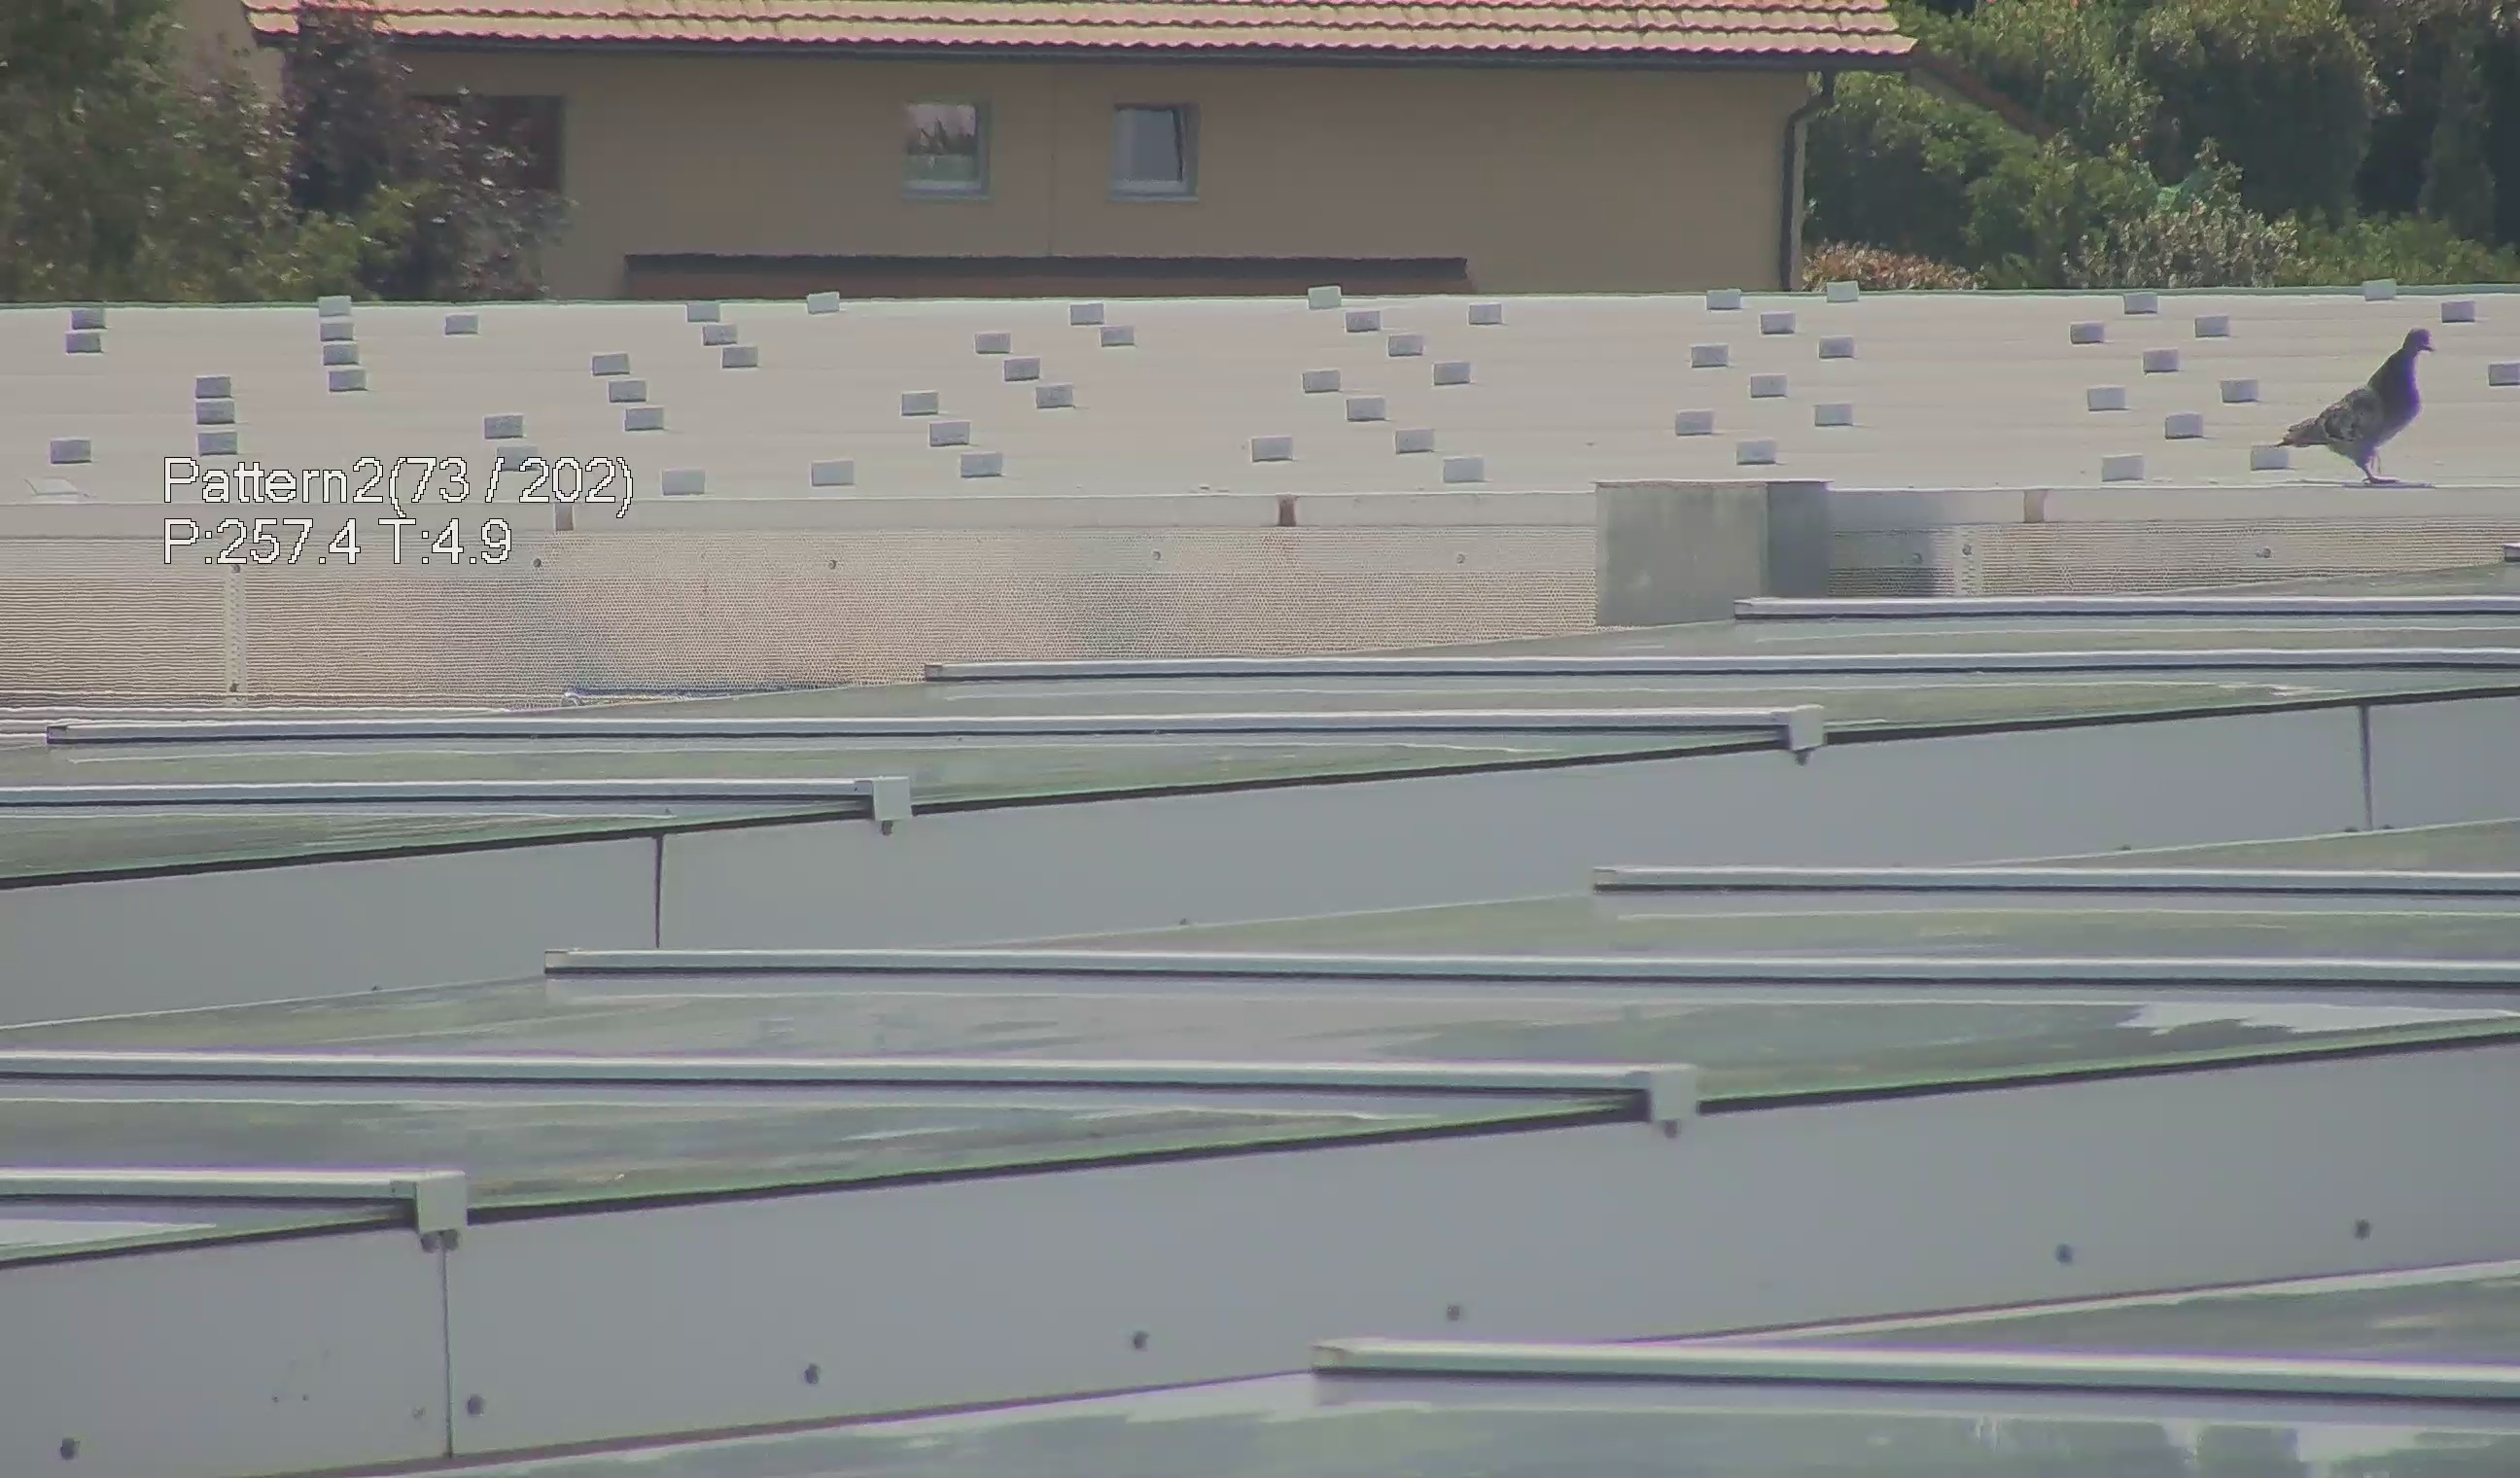Pigeon: (2279, 311, 2455, 486)
